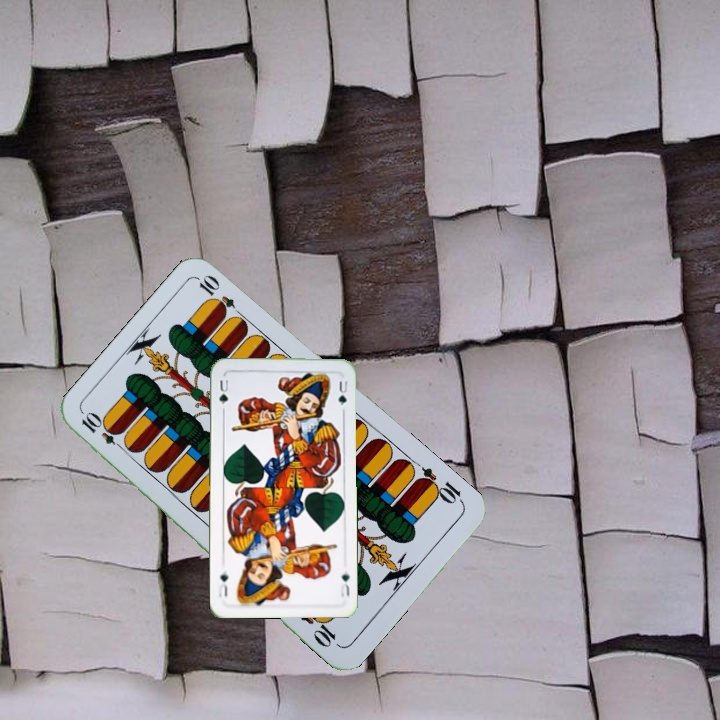E10: (412, 463, 466, 507), (77, 409, 129, 454)
GU: (336, 566, 352, 599), (215, 375, 231, 407)
